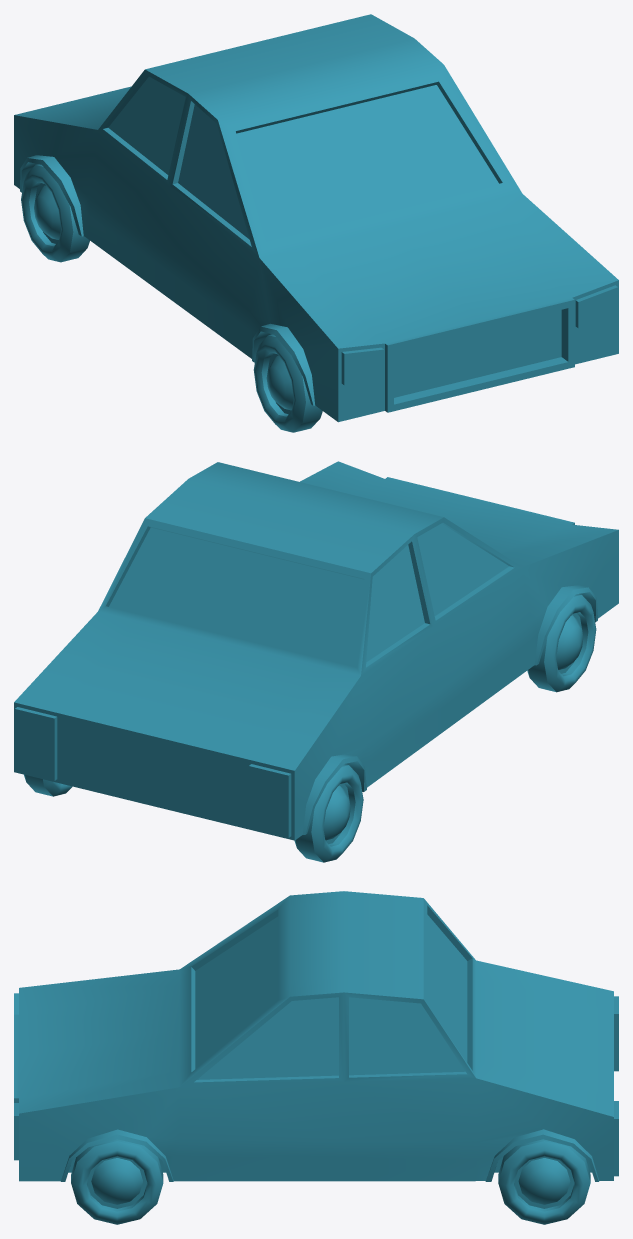
File: CarWheelsDetatched.FBX
3 renders of one model, top to bottom at view 1: azimuth 30°, elevation 25°; view 2: azimuth 150°, elevation 25°; view 3: azimuth 270°, elevation 25°, orthographic. The views are drawn at different scales.
Visible parts, largest first — view 1: Car_low, Wheel_B_Right, Wheel_F_Right; view 2: Car_low, Wheel_F_Right, Wheel_B_Right, Wheel_B_Left; view 3: Car_low, Wheel_B_Left, Wheel_F_Left.
Boxes of the visible parts, x1,y1,x2,y2 form: Car_low: (14,14,618,422); Wheel_B_Right: (21,164,89,262); Wheel_F_Right: (253,334,322,432); Car_low: (14,461,618,840); Wheel_F_Right: (527,594,596,692); Wheel_B_Right: (294,764,363,862); Wheel_B_Left: (24,774,72,796); Car_low: (14,891,618,1181); Wheel_B_Left: (498,1139,590,1224); Wheel_F_Left: (71,1139,163,1224).
Size of the model in its own units: 21.67 by 15.95 by 40.02.
